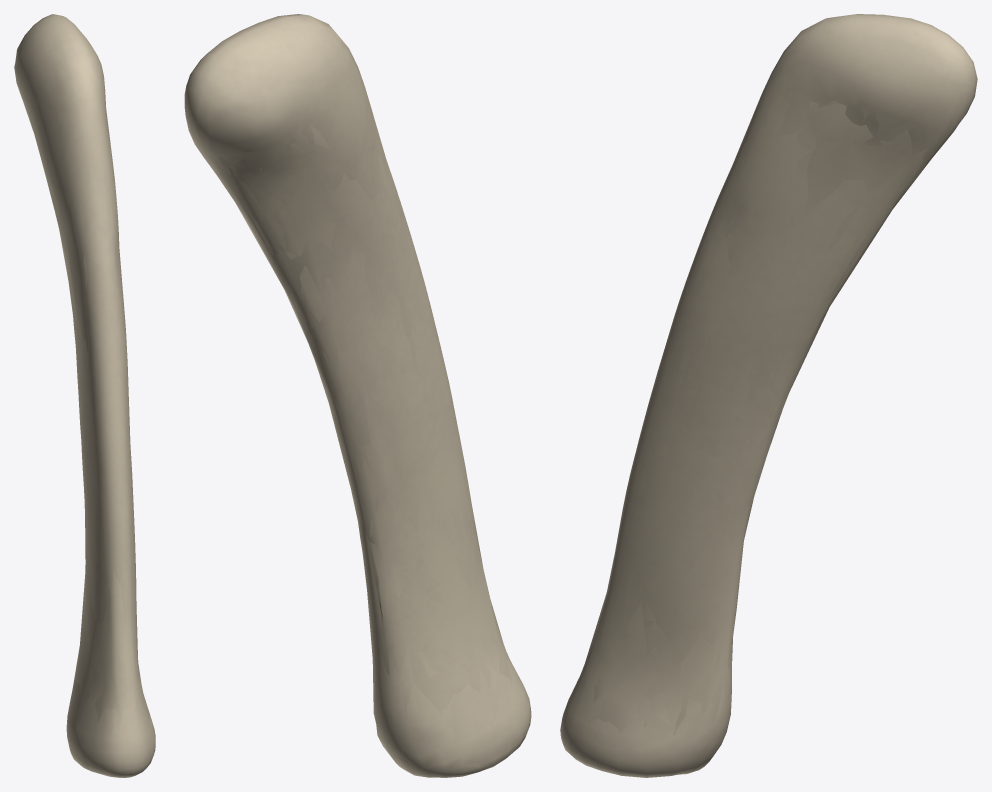
The model's file is R metacarpi quintum.fbx.
3 views of the same model, side by side, from view 1: azimuth 30°, elevation 25°; view 2: azimuth 150°, elevation 25°; view 3: azimuth 270°, elevation 25° (orthographic). The views are drawn at different scales.
Parts seen in each view (by area): view 1: R metacarpi quintum, R metacarpi quintum high, R metacarpi quintum low; view 2: R metacarpi quintum, R metacarpi quintum low, R metacarpi quintum high; view 3: R metacarpi quintum, R metacarpi quintum high, R metacarpi quintum low.
Part boxes in pixels (box(x1,y1,x2,y2)): R metacarpi quintum: box(14, 14, 155, 777); R metacarpi quintum high: box(15, 16, 155, 777); R metacarpi quintum low: box(28, 111, 144, 725); R metacarpi quintum: box(184, 14, 531, 777); R metacarpi quintum low: box(212, 125, 512, 715); R metacarpi quintum high: box(186, 15, 530, 777); R metacarpi quintum: box(560, 14, 977, 777); R metacarpi quintum high: box(562, 15, 975, 776); R metacarpi quintum low: box(580, 90, 930, 735).
Bounding box in the file's own units: 2.19 × 10.41 × 5.07.
